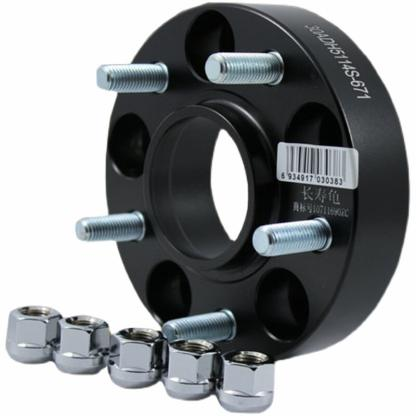FOD: (100, 1, 415, 366)
